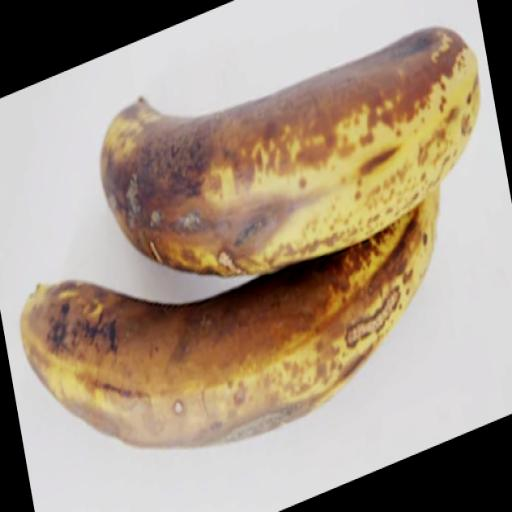banana-overripe: (6, 66, 501, 428)
